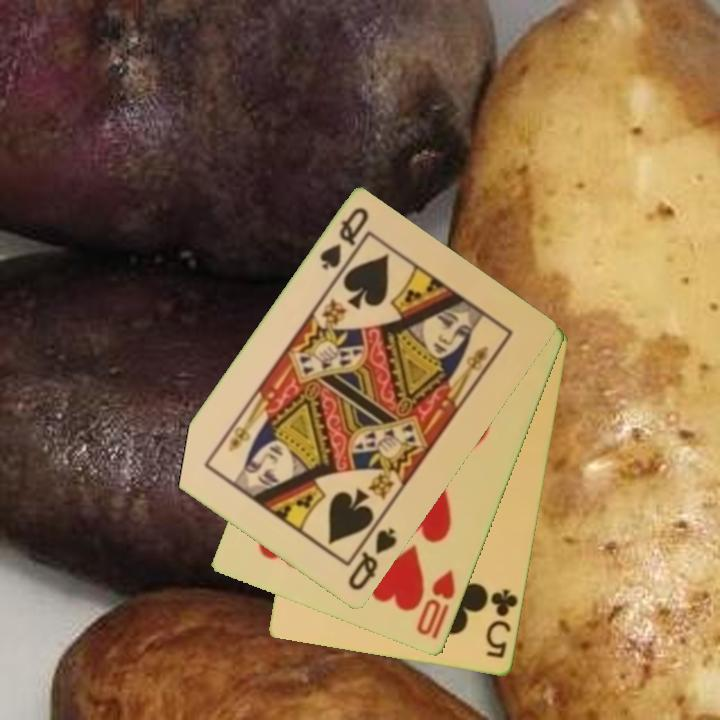10h: (413, 566, 459, 643)
5c: (482, 586, 521, 662)
Qs: (344, 524, 400, 594), (316, 204, 372, 274)
